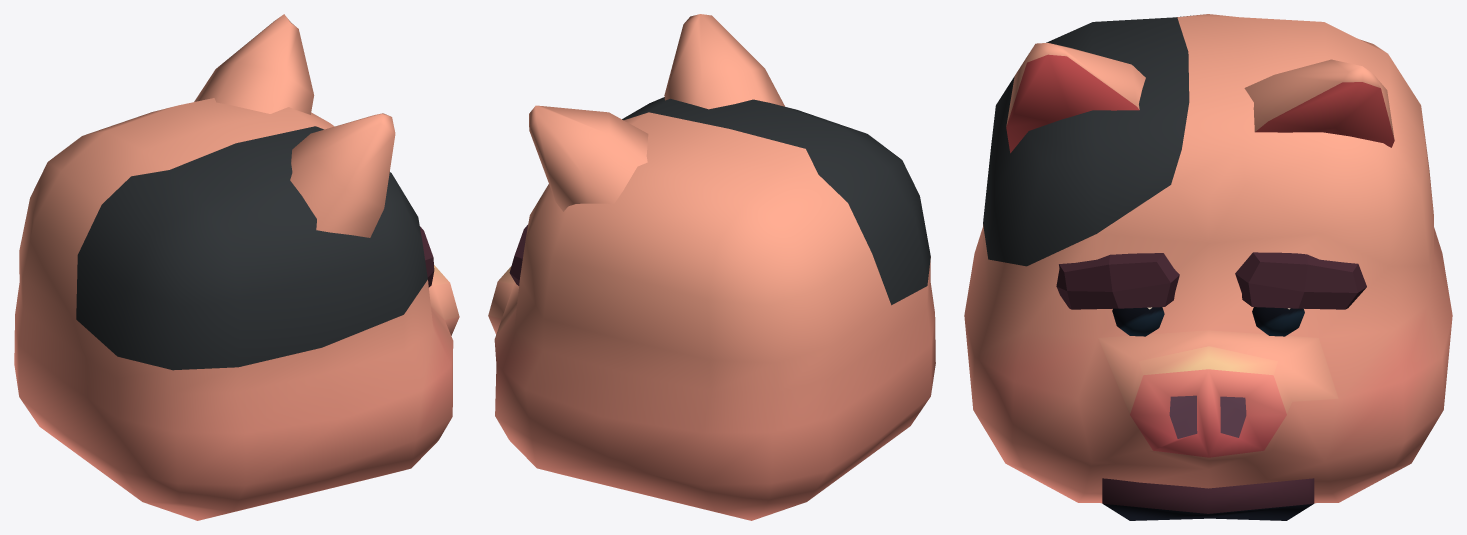
File: Pig2.fbx
3 renders of one model, left to right at view 1: azimuth 30°, elevation 25°; view 2: azimuth 150°, elevation 25°; view 3: azimuth 270°, elevation 25°, orthographic. The views are drawn at different scales.
Visible parts, largest first — view 1: Pig2; view 2: Pig2; view 3: Pig2.
Boxes of the visible parts, x1=… form: Pig2: x1=14, y1=14, x2=459, y2=520; Pig2: x1=488, y1=14, x2=935, y2=520; Pig2: x1=964, y1=14, x2=1452, y2=520.
Bounding box in the file's own units: 209 × 204 × 201.
